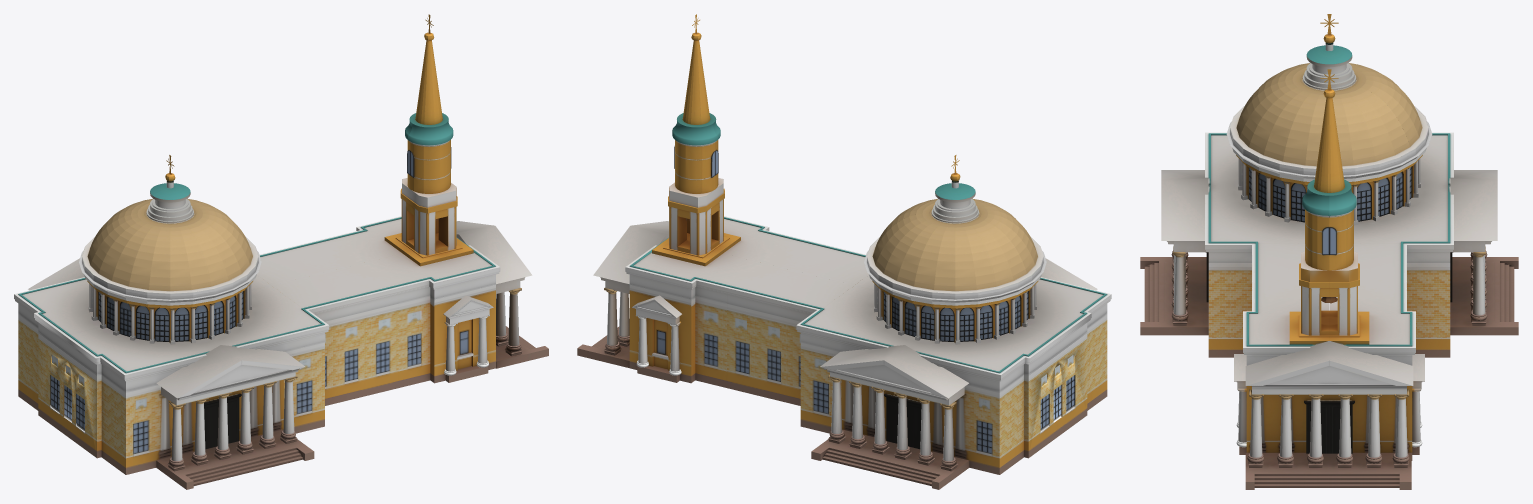
File: Tserkov-Preobrazhenka.glb
3 views of the same model, side by side, from view 1: azimuth 30°, elevation 25°; view 2: azimuth 150°, elevation 25°; view 3: azimuth 270°, elevation 25° (orthographic). The views are drawn at different scales.
Parts seen in each view (by area): view 1: tp; view 2: tp; view 3: tp.
Part boxes in pixels (x1,y1,x2,y2): tp: (14, 14, 548, 489); tp: (577, 14, 1111, 489); tp: (1140, 14, 1518, 489).
Size of the model in its own units: 49.75 by 35.55 by 32.47.
1 material, 1 textured.
